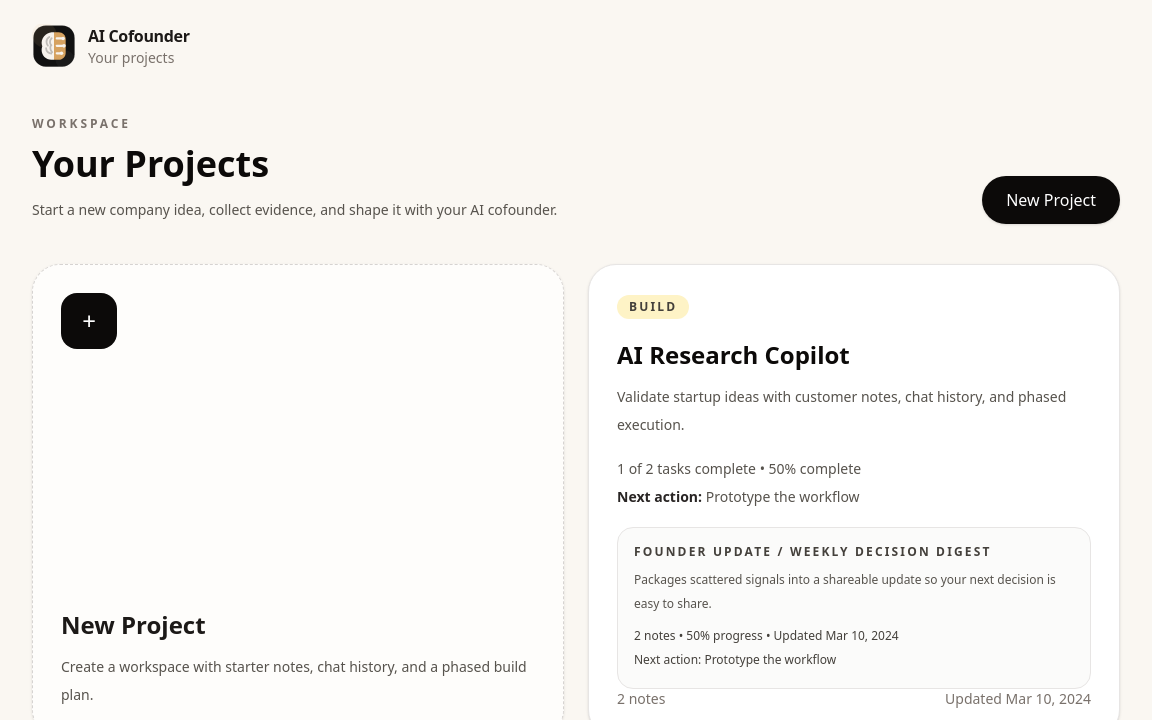
Test: DashboardPage › prefills onboarding from the stored draft when a returning user with projects clicks New Project
Step 1. Click the button "New Project" → coordinates (1051, 200), box [982,176,1120,224]
(page scrolled)
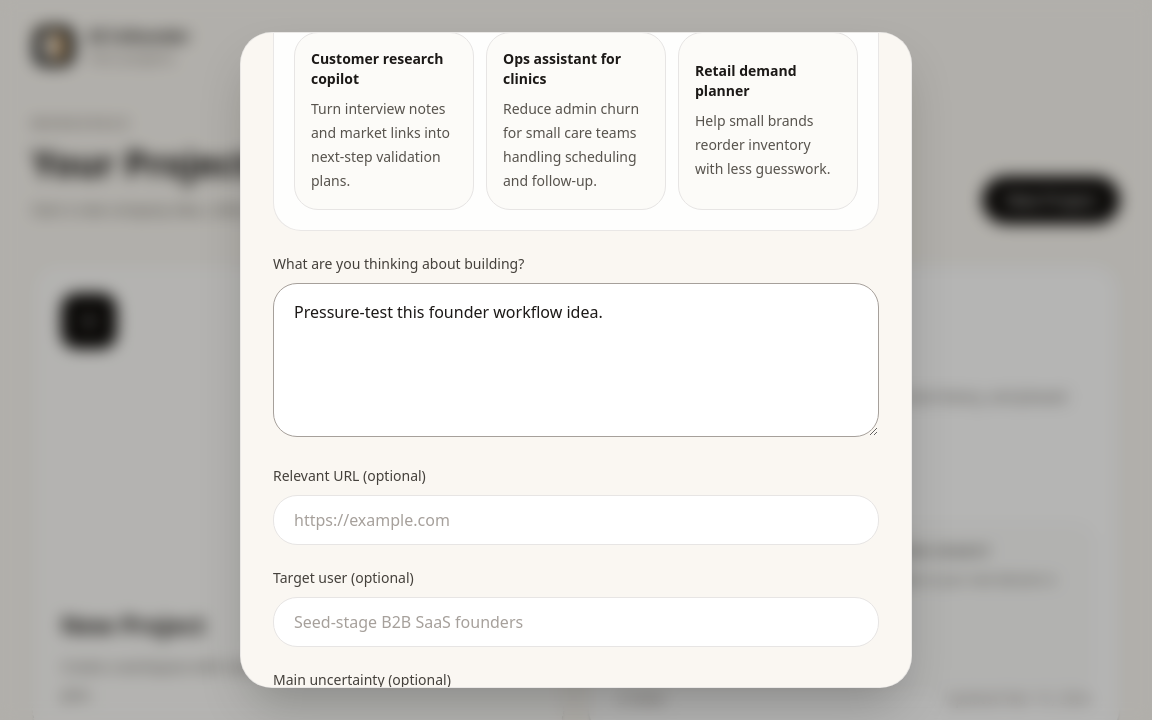
Check: the text box labelled "What are you thinking about building?" holds "Pressure-test this founder workflow idea.", box [273,283,879,437]
